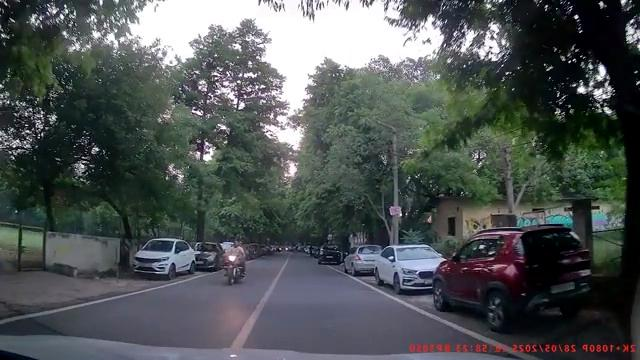motorcycle_without_helmet: (222, 239, 248, 286)
